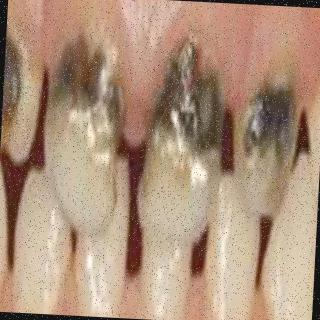cavities: (148, 46, 212, 235), (51, 37, 126, 197), (241, 60, 303, 199), (3, 37, 31, 152)
